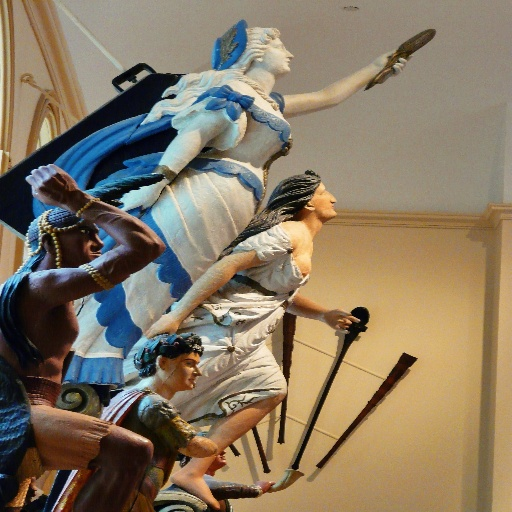hand: (22, 162, 82, 208), (116, 179, 167, 212), (367, 48, 414, 77), (143, 312, 183, 340), (319, 306, 363, 331)
